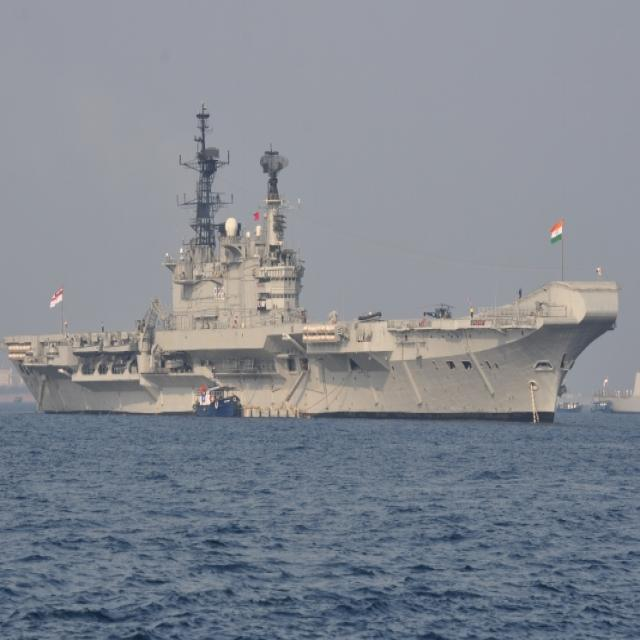Portanaves: (2, 102, 621, 429)
